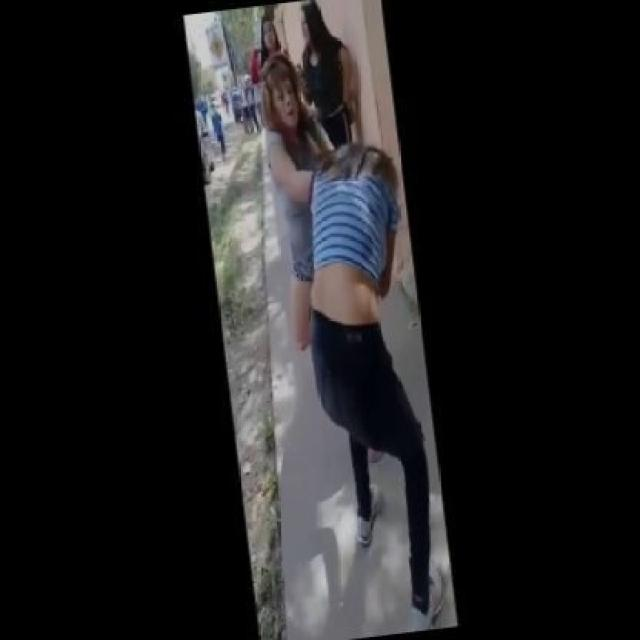fight: (258, 44, 432, 640)
